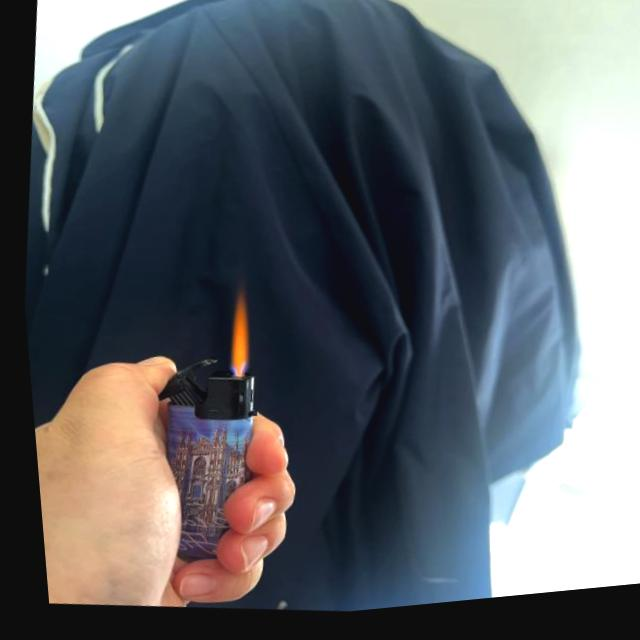helmet: (216, 292, 254, 379)
